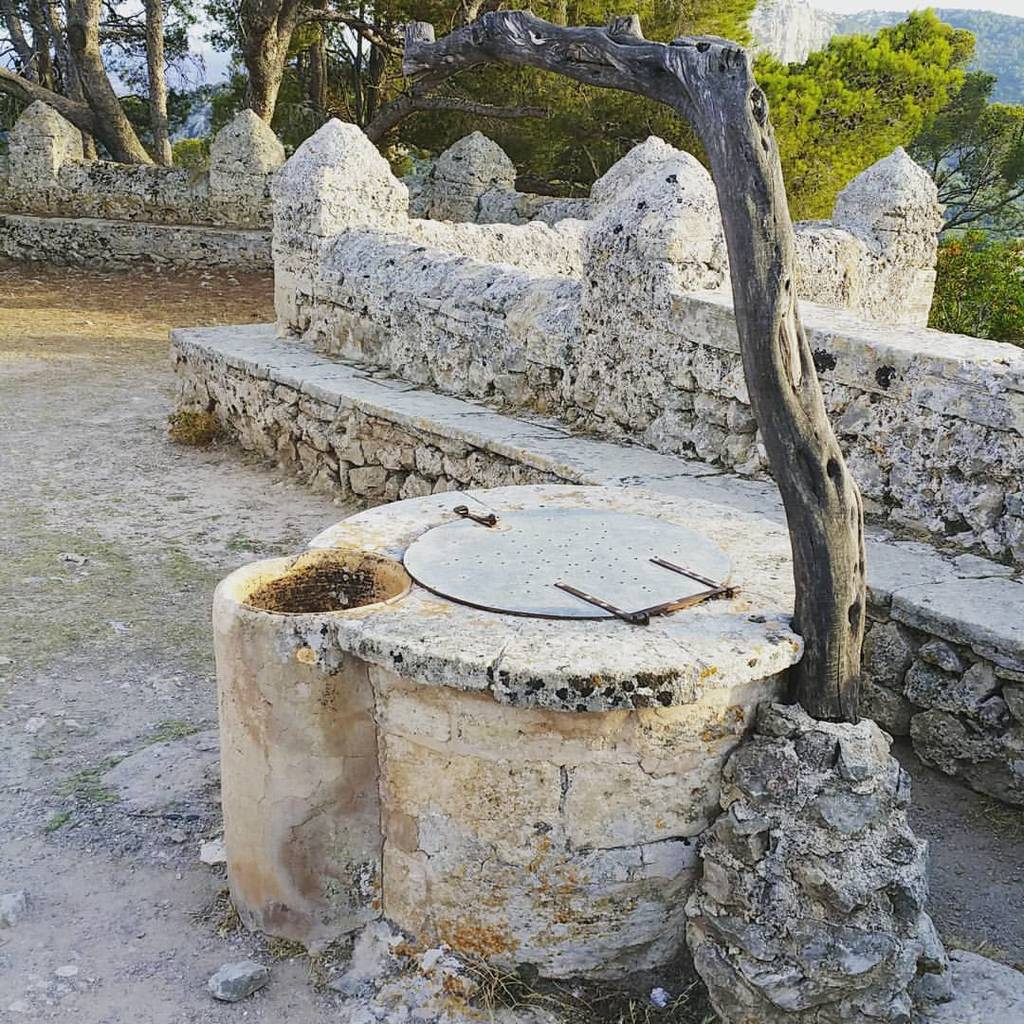Tree: (0, 0, 1023, 242), (20, 11, 161, 146)
